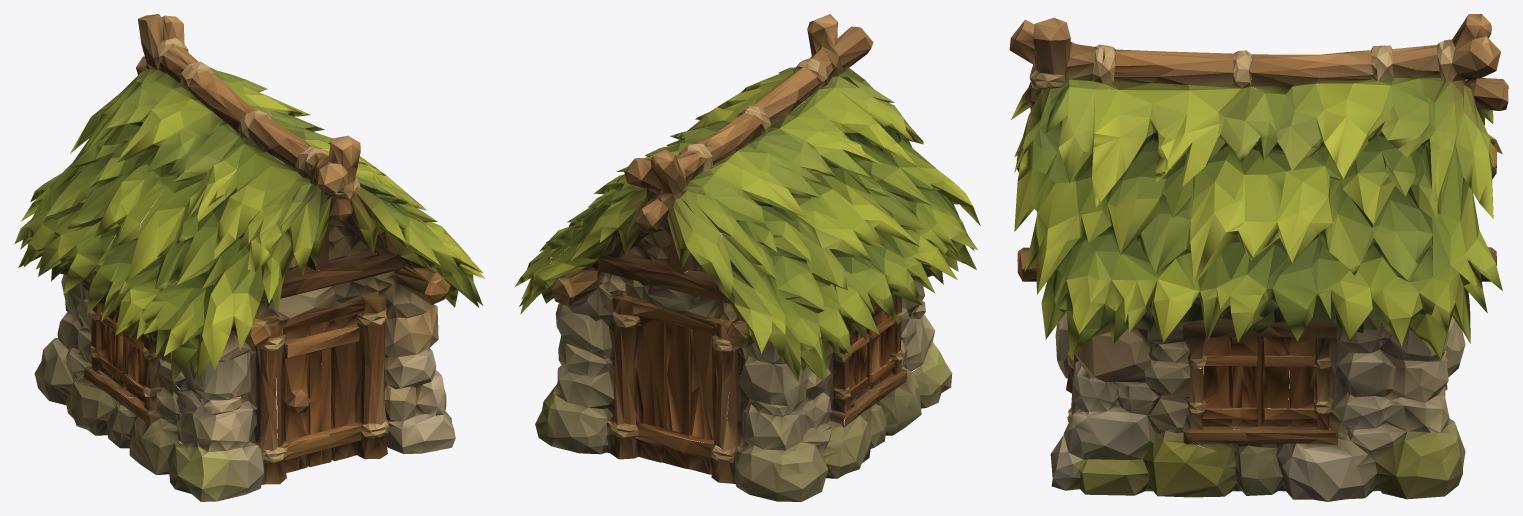
Rendered from building-stoneHouse.glb.
The picture shows the model from 3 angles, left to right: view 1: azimuth 30°, elevation 25°; view 2: azimuth 150°, elevation 25°; view 3: azimuth 270°, elevation 25°; orthographic projection. The views are drawn at different scales.
Visible parts, largest first — view 1: 0_stoneHouse; view 2: 0_stoneHouse; view 3: 0_stoneHouse.
Part boxes in pixels (bbox=[...]): 0_stoneHouse: bbox=[14, 14, 484, 501]; 0_stoneHouse: bbox=[514, 14, 980, 501]; 0_stoneHouse: bbox=[1009, 14, 1508, 501].
Size of the model in its own units: 5.44 by 5 by 5.64.
